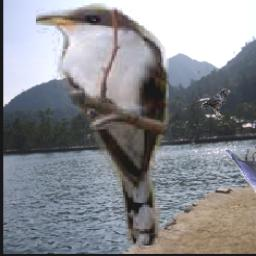Crow: (224, 148, 256, 199), (200, 88, 231, 121)
Cuckoo: (36, 4, 173, 247)
